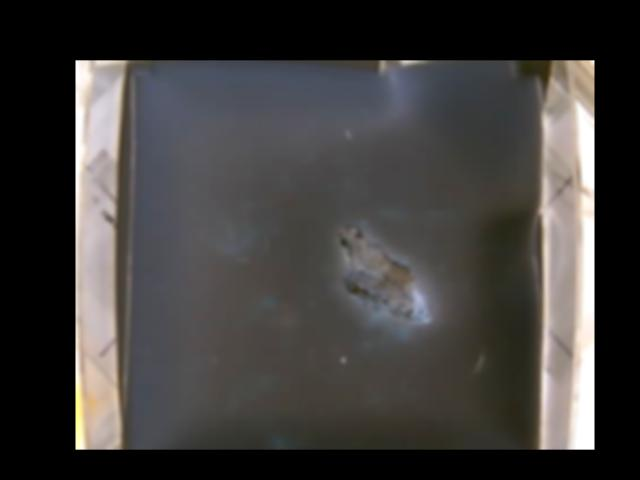Brisk: (340, 228, 429, 322)
